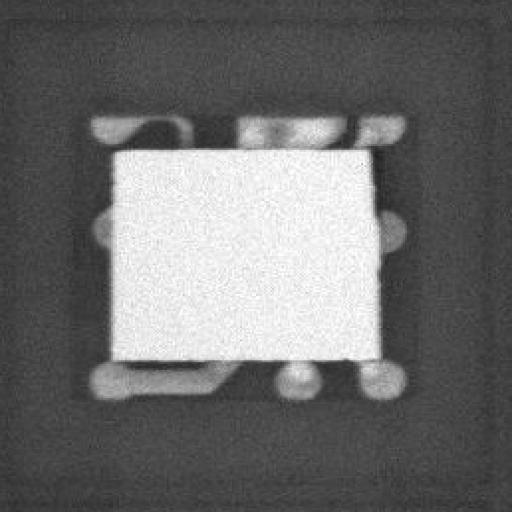DIE_BROKEN: (365, 144, 381, 218)
